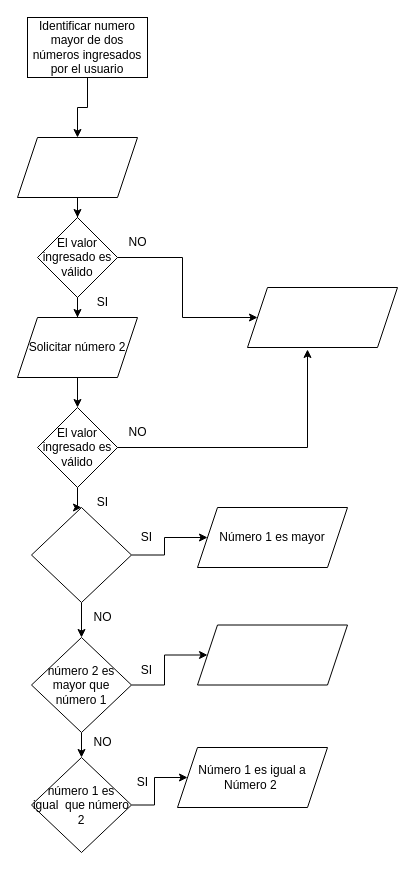
The diagram is 415 pixels wide and 870 high, and some of its shapes have lost their labels. The shapes that lost their labels are listed below. From the top down, each one's centre as x and y in pixels, then its label:
(77,167): Solicitar número 1
(322,317): ingresa un número válido
(81,554): número 1 es mayor que número 2
(272,654): Número 2 es mayor
